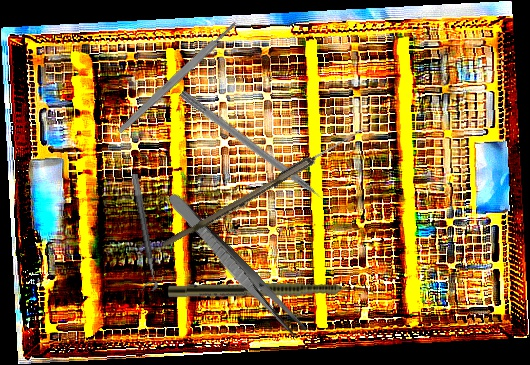Dressing Forceps: (161, 190, 310, 342)
Fixation Ring: (120, 173, 160, 293)
Handpiece: (167, 281, 378, 300)
Pusher: (177, 89, 341, 216)
Scalpel Handle: (115, 19, 240, 136)
Surgical Spoon: (161, 122, 368, 253)
